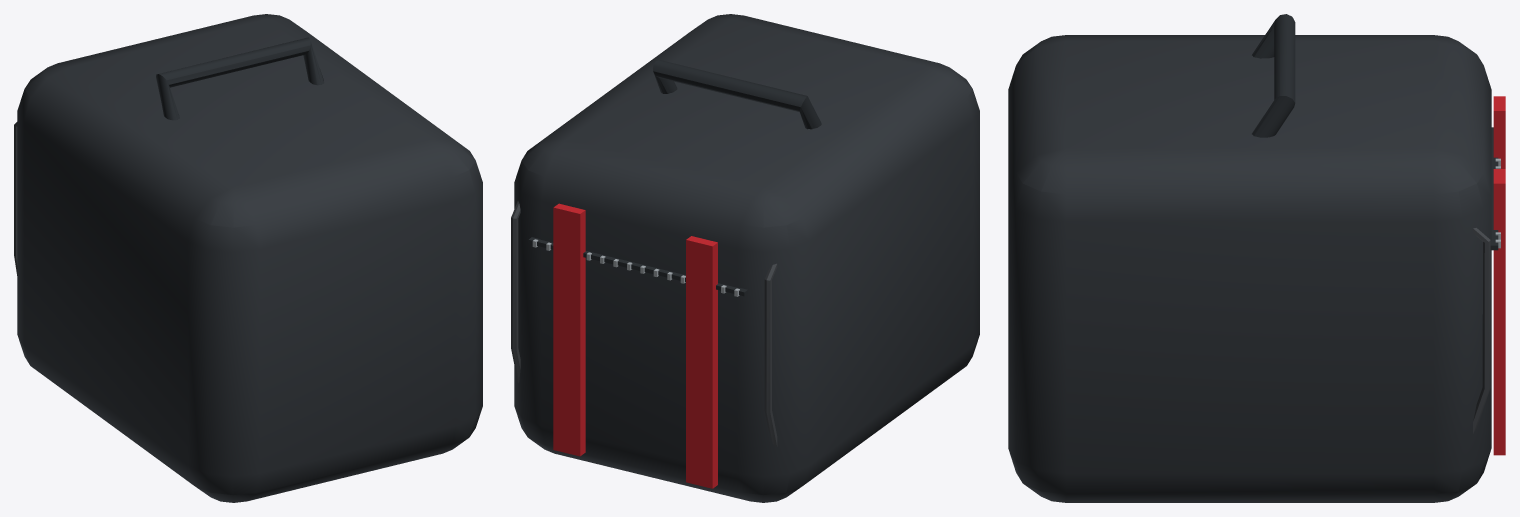
The model's file is ob_small_pouch_g4.glb.
The picture shows the model from 3 angles, left to right: view 1: azimuth 30°, elevation 25°; view 2: azimuth 150°, elevation 25°; view 3: azimuth 270°, elevation 25°; orthographic projection. The views are drawn at different scales.
Visible parts, largest first — view 1: ob_small_pouch_g4; view 2: ob_small_pouch_g4; view 3: ob_small_pouch_g4.
Part boxes in pixels (x1=…): ob_small_pouch_g4: x1=14, y1=14, x2=482, y2=502; ob_small_pouch_g4: x1=511, y1=14, x2=979, y2=502; ob_small_pouch_g4: x1=1008, y1=14, x2=1505, y2=502.
Size of the model in its own units: 0.27 by 0.31 by 0.36.
